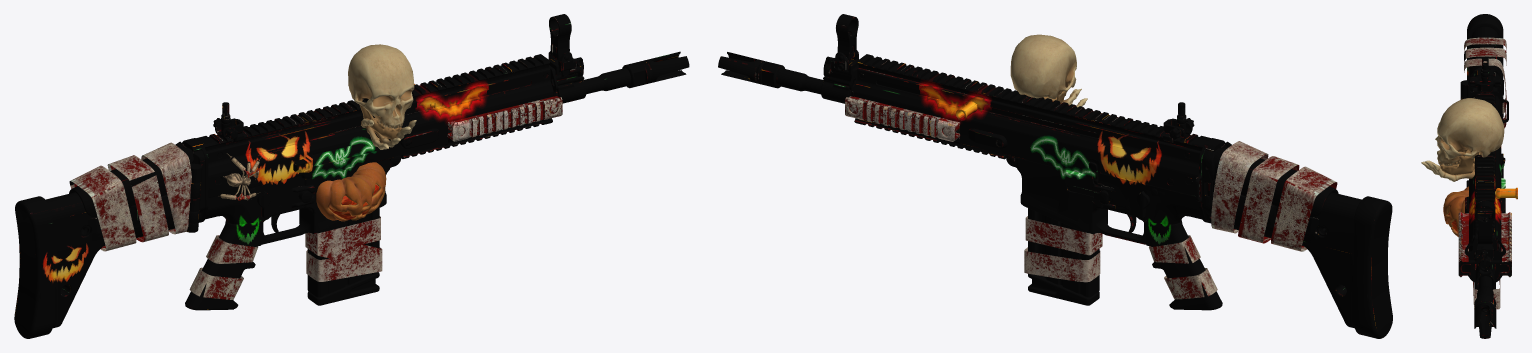
Rendered from WEAPON_SCAR_HALLOWEEN.glb.
The picture shows the model from 3 angles, left to right: view 1: azimuth 30°, elevation 25°; view 2: azimuth 150°, elevation 25°; view 3: azimuth 270°, elevation 25°; orthographic projection. The views are drawn at different scales.
Parts seen in each view (by area): view 1: Gun_Root.002; view 2: Gun_Root.002; view 3: Gun_Root.002.
Part boxes in pixels (x1,y1,x2,y2): Gun_Root.002: (14,14,689,338); Gun_Root.002: (718,14,1392,338); Gun_Root.002: (1421,14,1517,338).
Size of the model in its own units: 0.7898 by 0.2786 by 0.1091.
Materials: 10 (10 with a texture image).
